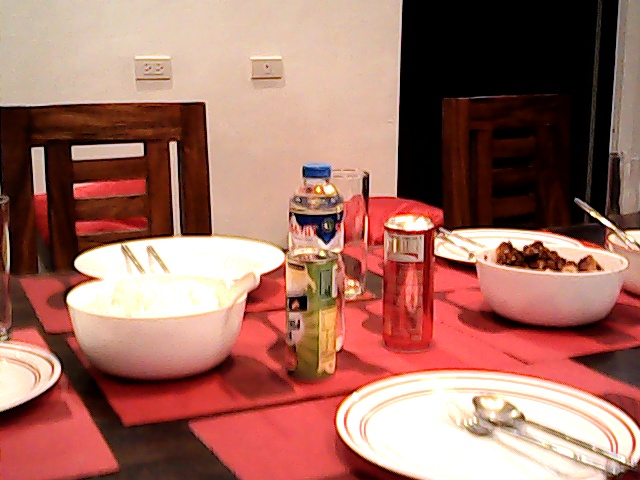Cola: (375, 202, 441, 359)
Pine Juice: (282, 250, 343, 381)
Summit Water: (284, 160, 347, 251)
